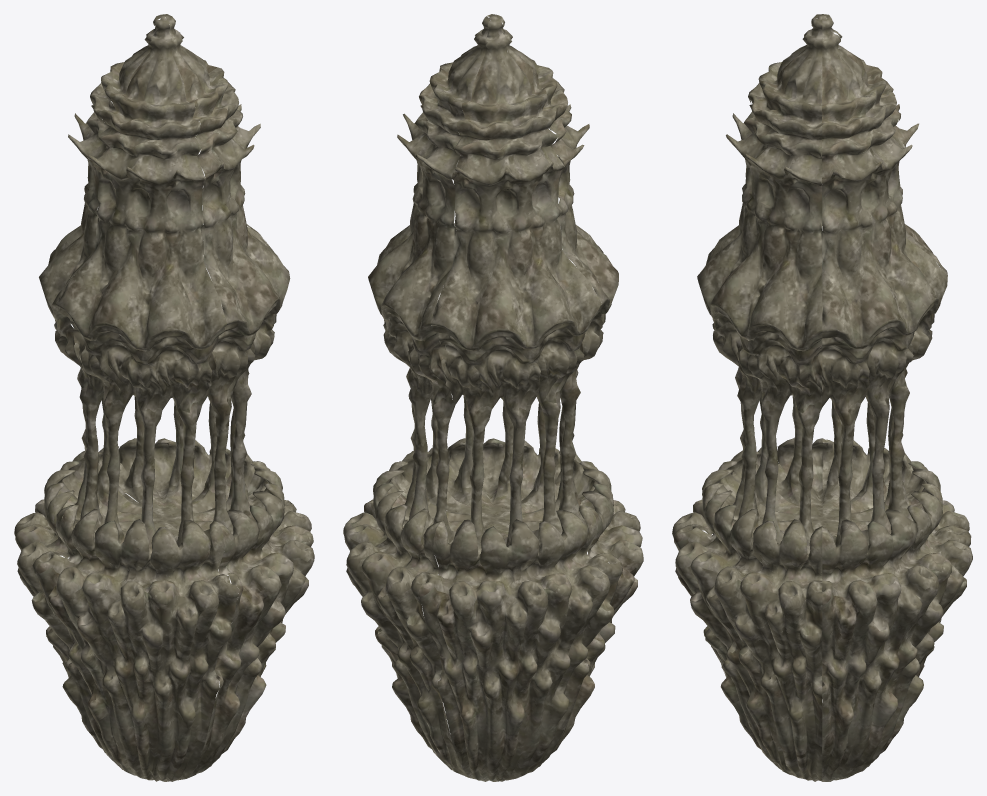
Rendered from UW_Building_C-transformed.glb.
3 views of the same model, side by side, from view 1: azimuth 30°, elevation 25°; view 2: azimuth 150°, elevation 25°; view 3: azimuth 270°, elevation 25° (orthographic).
Parts seen in each view (by area): view 1: UW_Building_C; view 2: UW_Building_C; view 3: UW_Building_C.
Part boxes in pixels (x1,y1,x2,y2): UW_Building_C: (14, 14, 314, 781); UW_Building_C: (343, 14, 643, 781); UW_Building_C: (672, 14, 972, 781).
Bounding box in the file's own units: 24.2 × 67.24 × 24.2.
1 material, 1 textured.
